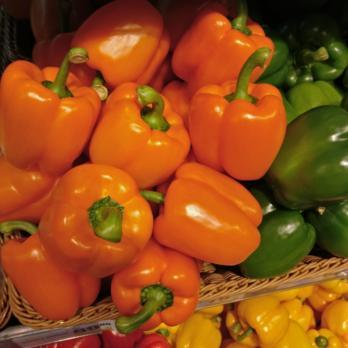Capsicum: (0, 59, 348, 258), (54, 0, 348, 97), (6, 256, 207, 328), (232, 297, 348, 348)
